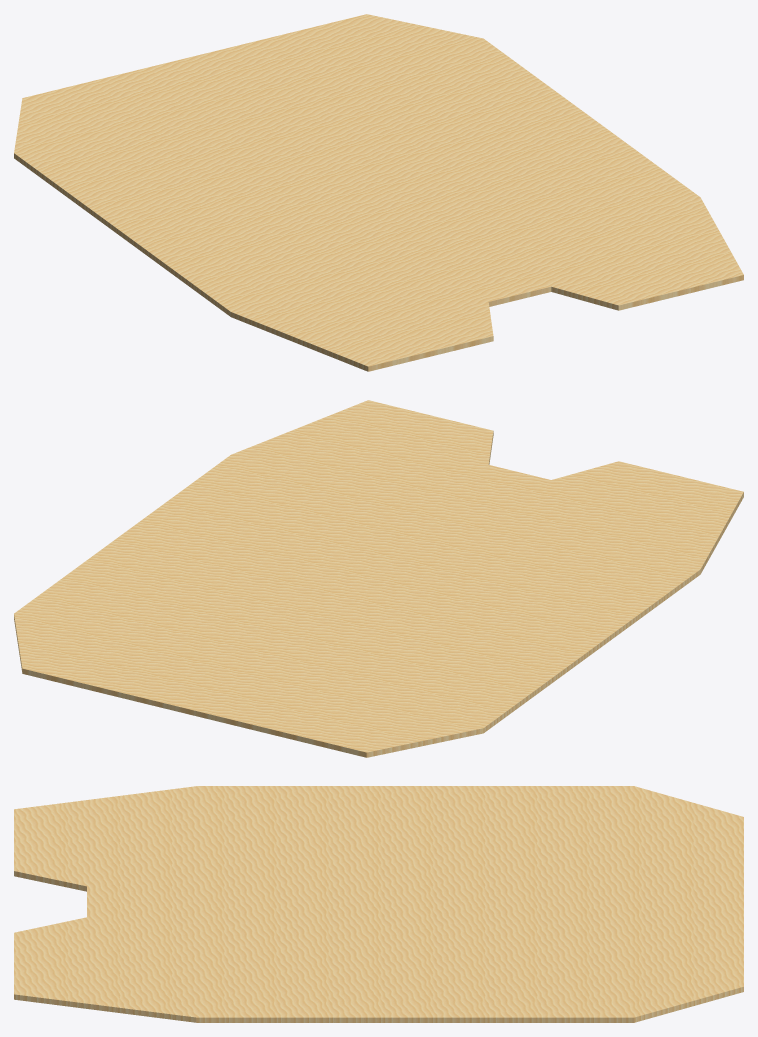
Rendered from seabed-14-B2u0FyMa.glb.
The picture shows the model from 3 angles, top to bottom: view 1: azimuth 30°, elevation 25°; view 2: azimuth 150°, elevation 25°; view 3: azimuth 270°, elevation 25°; orthographic projection.
Visible parts, largest first — view 1: SW_SandShelf; view 2: SW_SandShelf; view 3: SW_SandShelf.
Part boxes in pixels (left/top/right/bottom): SW_SandShelf: left=14, top=14, right=743, bottom=371; SW_SandShelf: left=14, top=400, right=743, bottom=757; SW_SandShelf: left=14, top=786, right=743, bottom=1022.
Size of what is drawn, in the model's own units: 30 by 0.32 by 40.
Materials: 1 (1 with a texture image).
